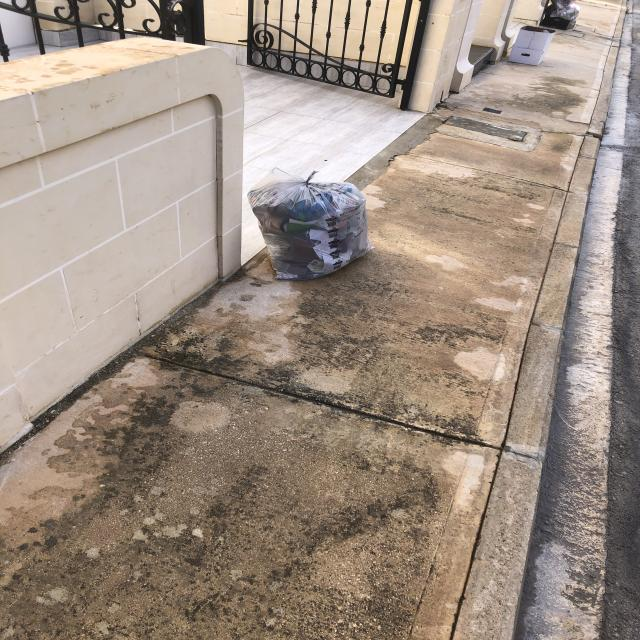Other: (512, 24, 557, 70), (544, 16, 576, 31)
Recycled Waste -Grey or Green Bag-: (249, 171, 384, 283), (549, 1, 582, 19)
